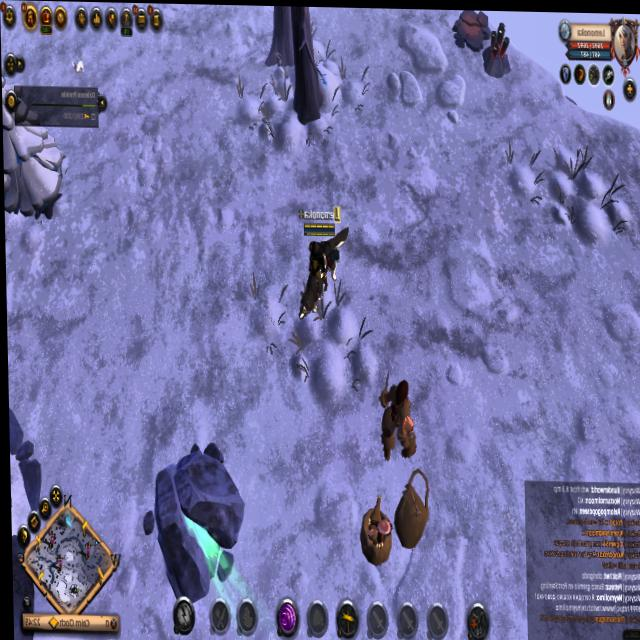ore tier 5: (481, 18, 512, 79)
